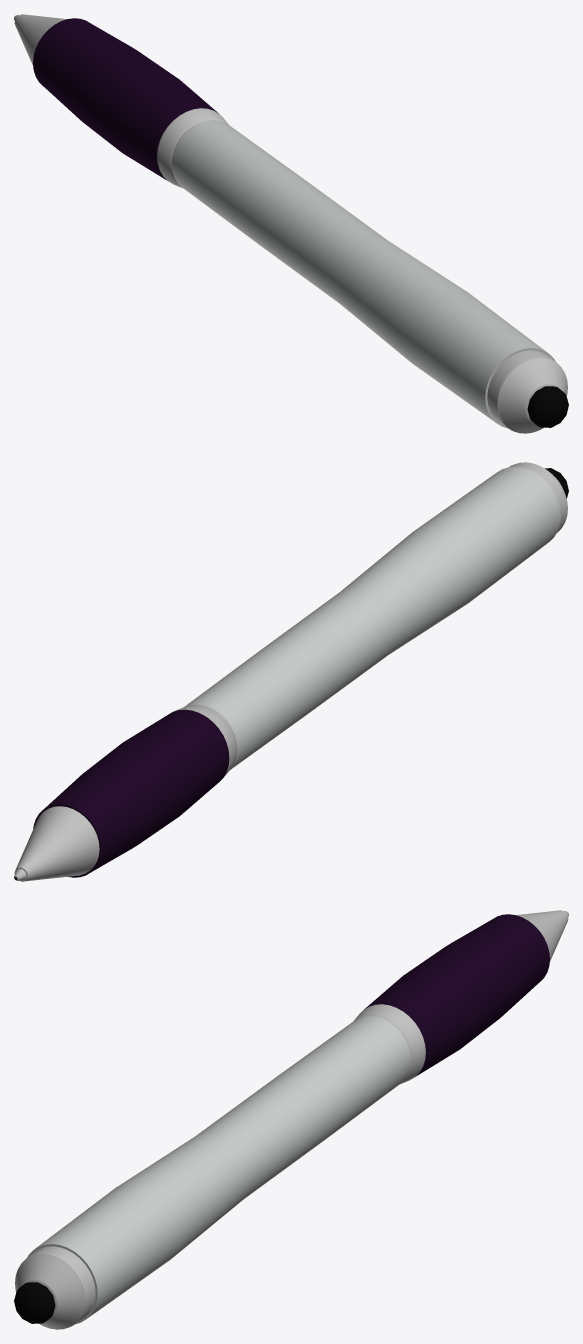
The model's file is ink_pen_with_purple_grip.glb.
3 renders of one model, top to bottom at view 1: azimuth 30°, elevation 25°; view 2: azimuth 150°, elevation 25°; view 3: azimuth 330°, elevation 25°, orthographic.
Parts seen in each view (by area): view 1: Sphere; view 2: Sphere; view 3: Sphere.
Part boxes in pixels (x1,y1,x2,y2): Sphere: (14,14,568,433); Sphere: (14,462,568,881); Sphere: (14,910,568,1329).
Size of the model in its own units: 8.75 by 8.75 by 102.
1 material, 1 textured.
